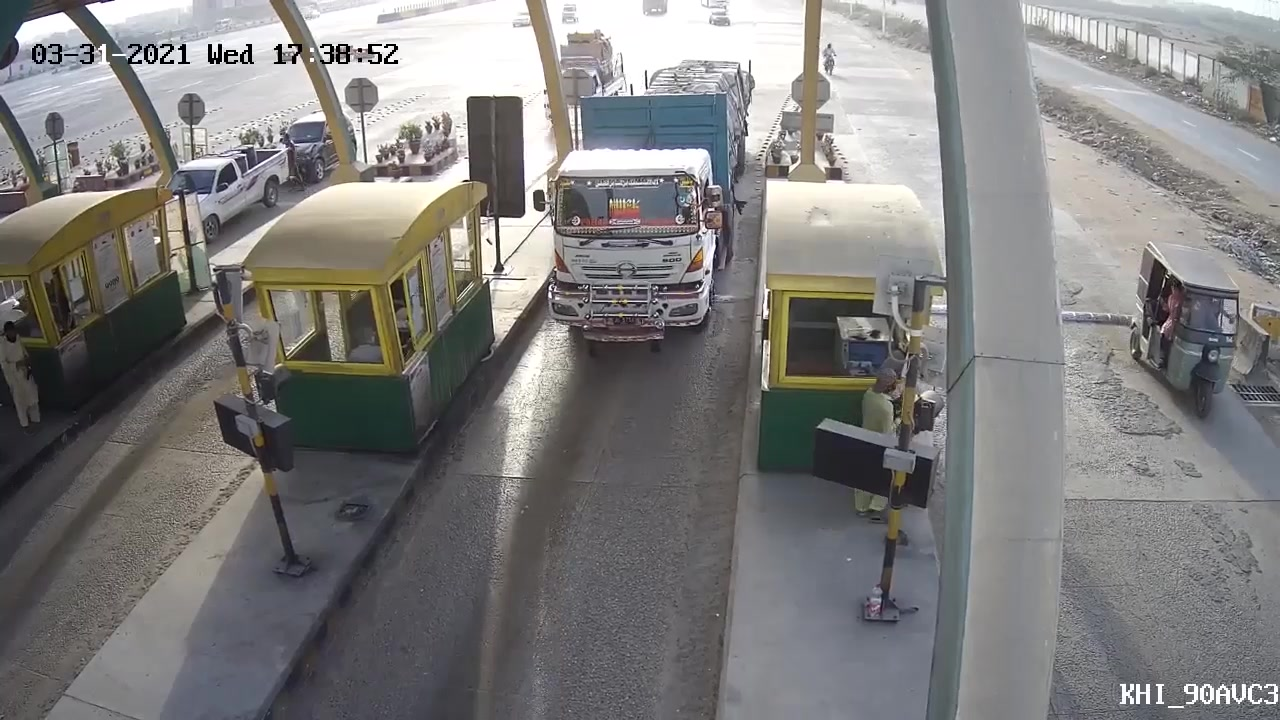F6: (522, 59, 759, 348)
